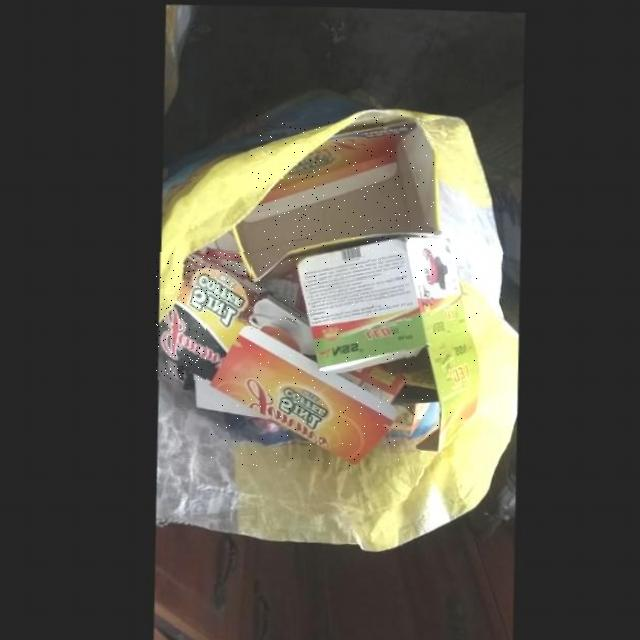paper: (291, 233, 477, 448), (206, 300, 406, 465), (251, 115, 434, 279), (156, 252, 262, 379)
